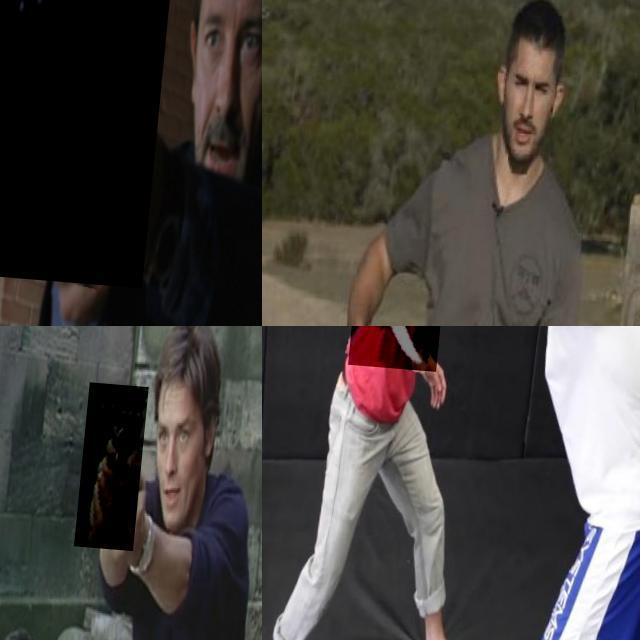-: (353, 326, 449, 376)
gun-knife-thesis - v11 Yolov5 augmented: (0, 0, 177, 281), (82, 379, 154, 547)
